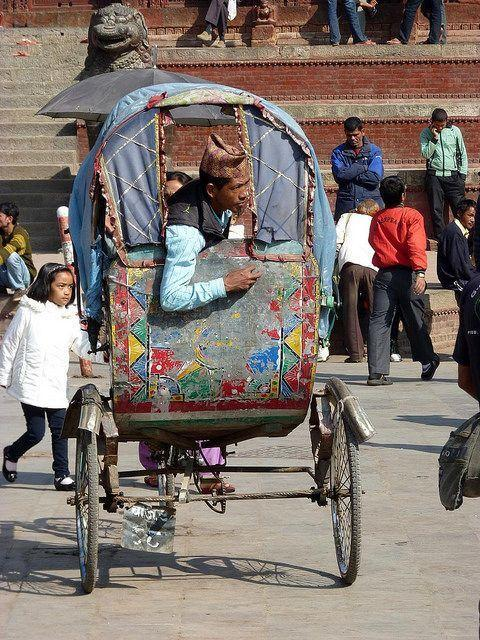Rickshaw: (64, 83, 372, 591)
